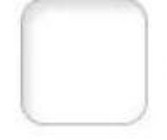CheckBox: (1, 1, 166, 139)
